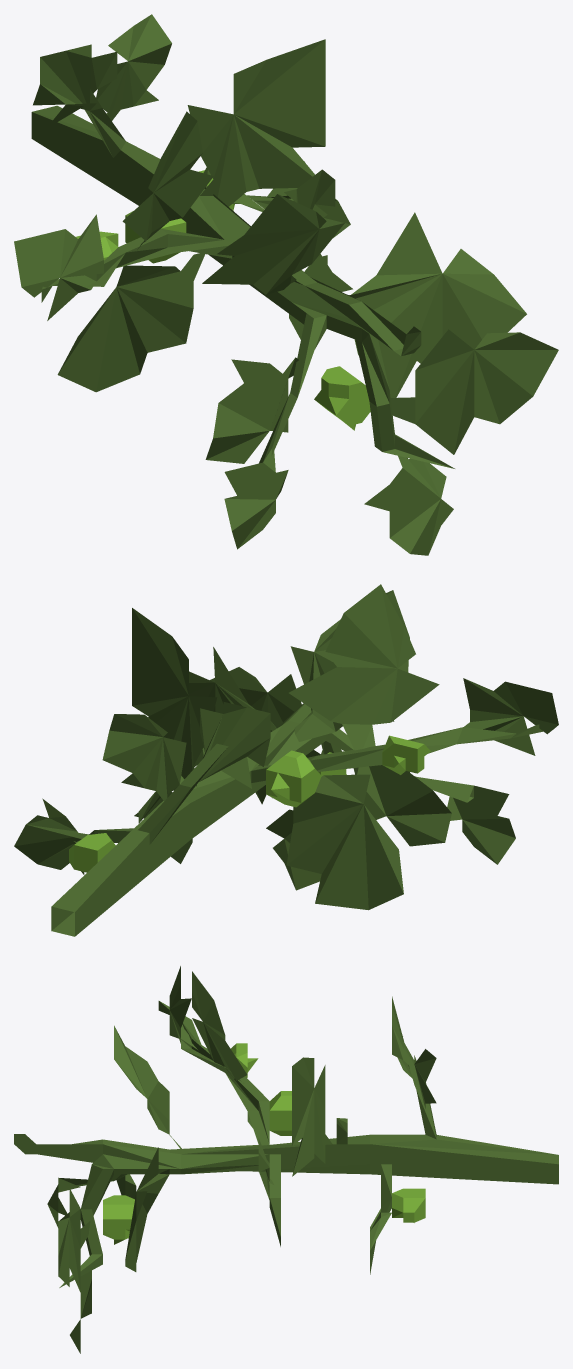
File: stage_3.obj
The picture shows the model from 3 angles, top to bottom: view 1: azimuth 30°, elevation 25°; view 2: azimuth 150°, elevation 25°; view 3: azimuth 270°, elevation 25°; orthographic projection. The views are drawn at different scales.
Parts seen in each view (by area): view 1: tomatoplant; view 2: tomatoplant; view 3: tomatoplant.
Part boxes in pixels (x1,y1,x2,y2): tomatoplant: [14, 14, 558, 555]; tomatoplant: [14, 584, 558, 936]; tomatoplant: [14, 966, 558, 1353].
Bounding box in the file's own units: 0.37 × 0.32 × 0.49.
